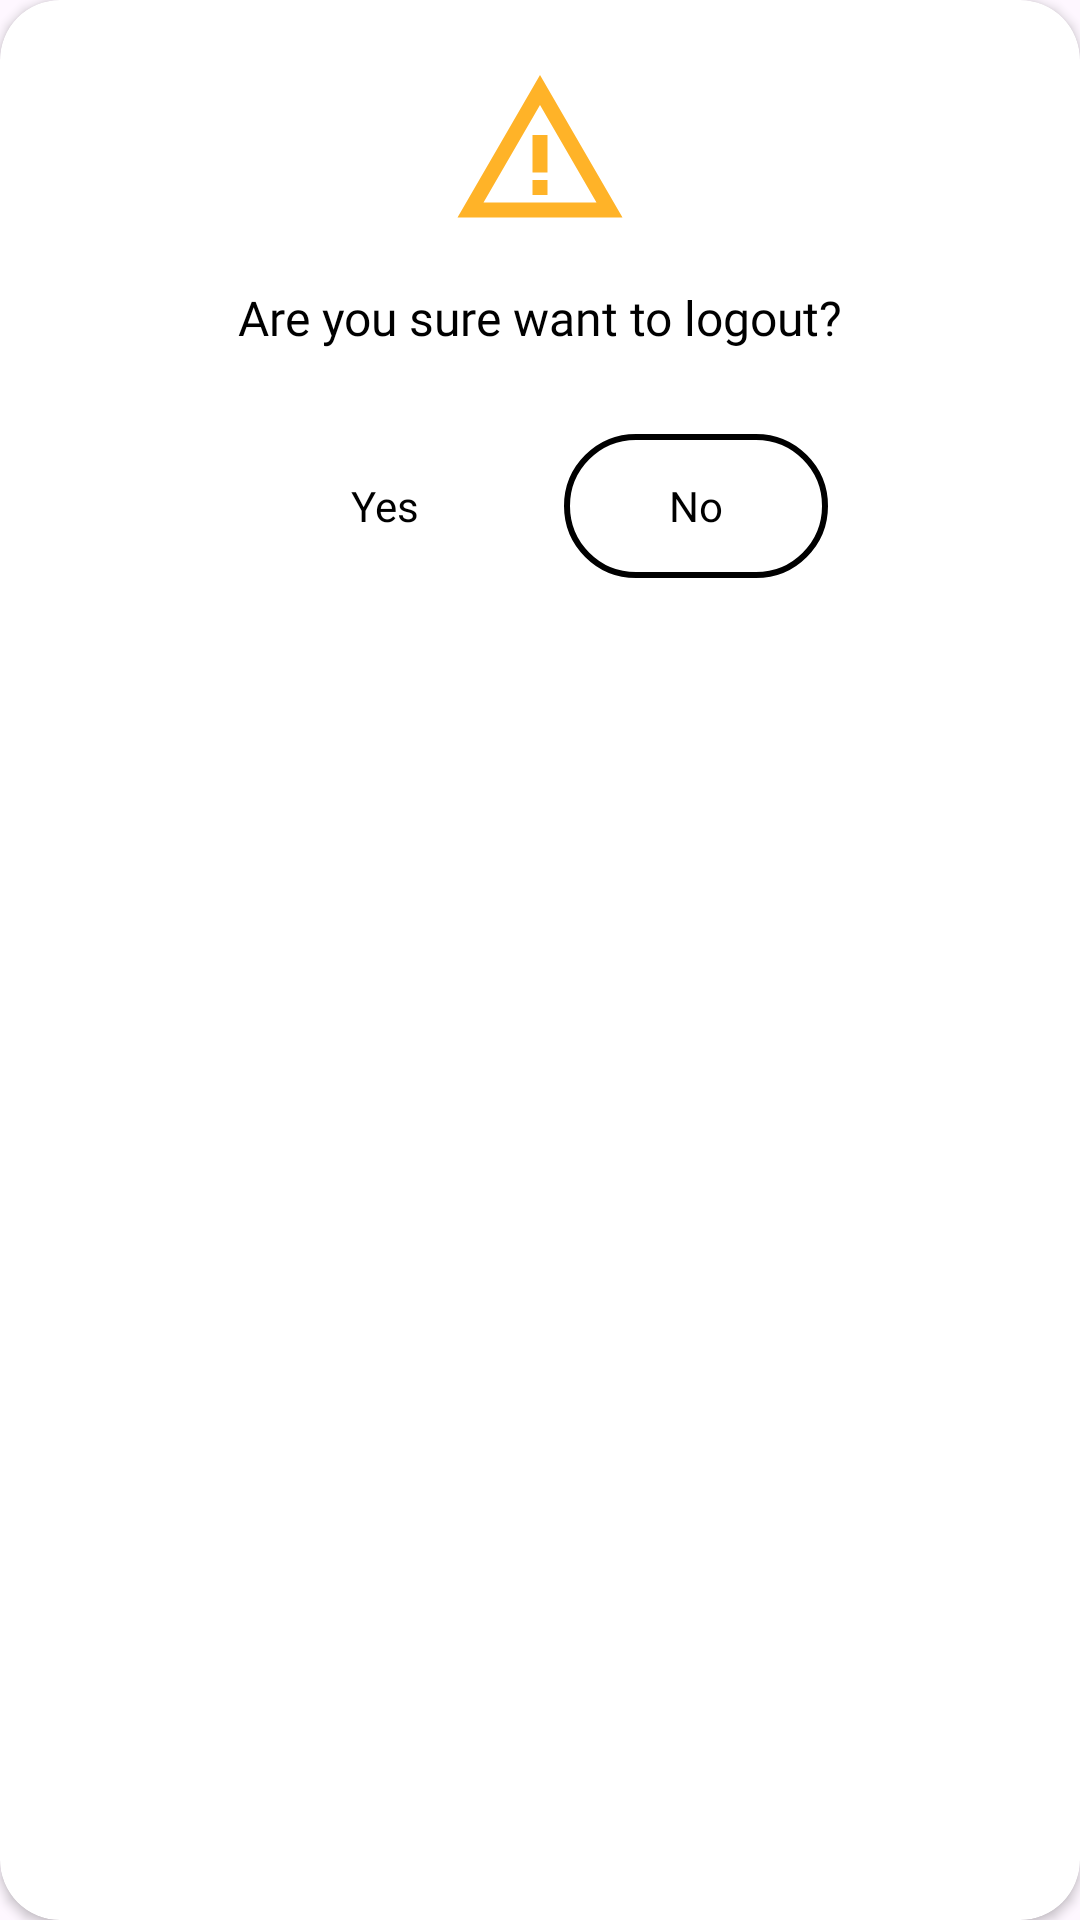

Screen size 1080 × 1920. Icon name, then its box in pixels as BBox(x1, y1, x2, y2):
warning: BBox(457, 75, 623, 218)
